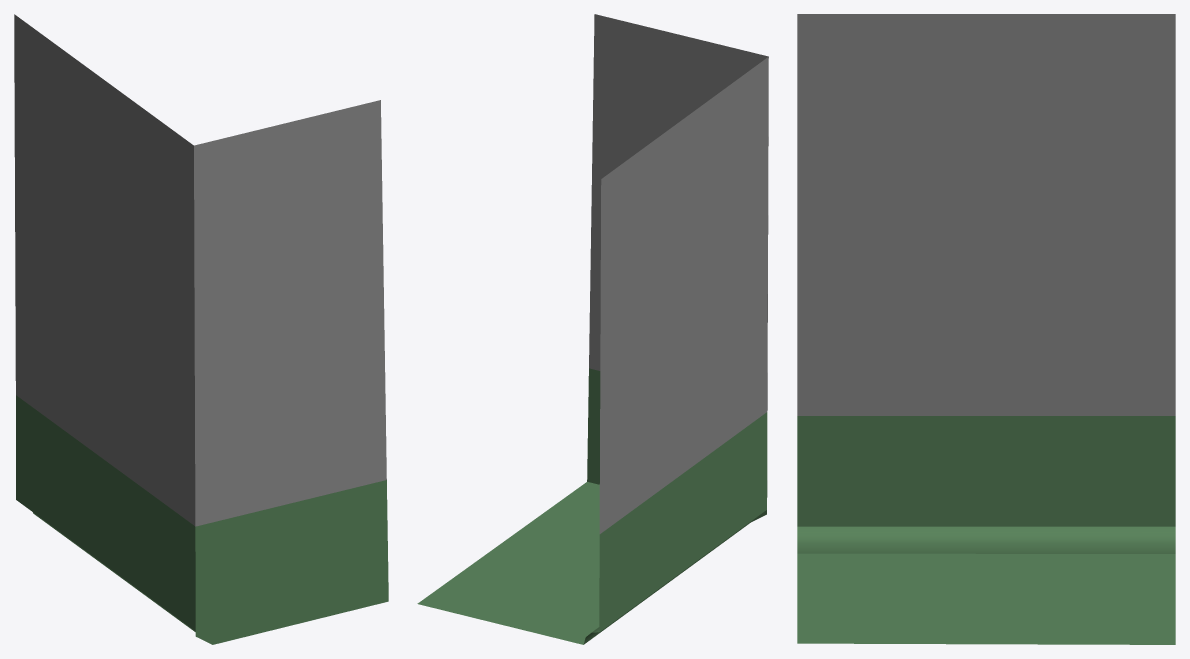
Rendered from mapa8.fbx.
The picture shows the model from 3 angles, left to right: view 1: azimuth 30°, elevation 25°; view 2: azimuth 150°, elevation 25°; view 3: azimuth 270°, elevation 25°; orthographic projection. The views are drawn at different scales.
Visible parts, largest first — view 1: pPlane17; view 2: pPlane17; view 3: pPlane17.
Part boxes in pixels (<box>): pPlane17: <box>14,14,388,644</box>; pPlane17: <box>417,14,768,644</box>; pPlane17: <box>797,14,1175,644</box>.
Size of the model in its own units: 3.46 by 8.45 by 5.46.
